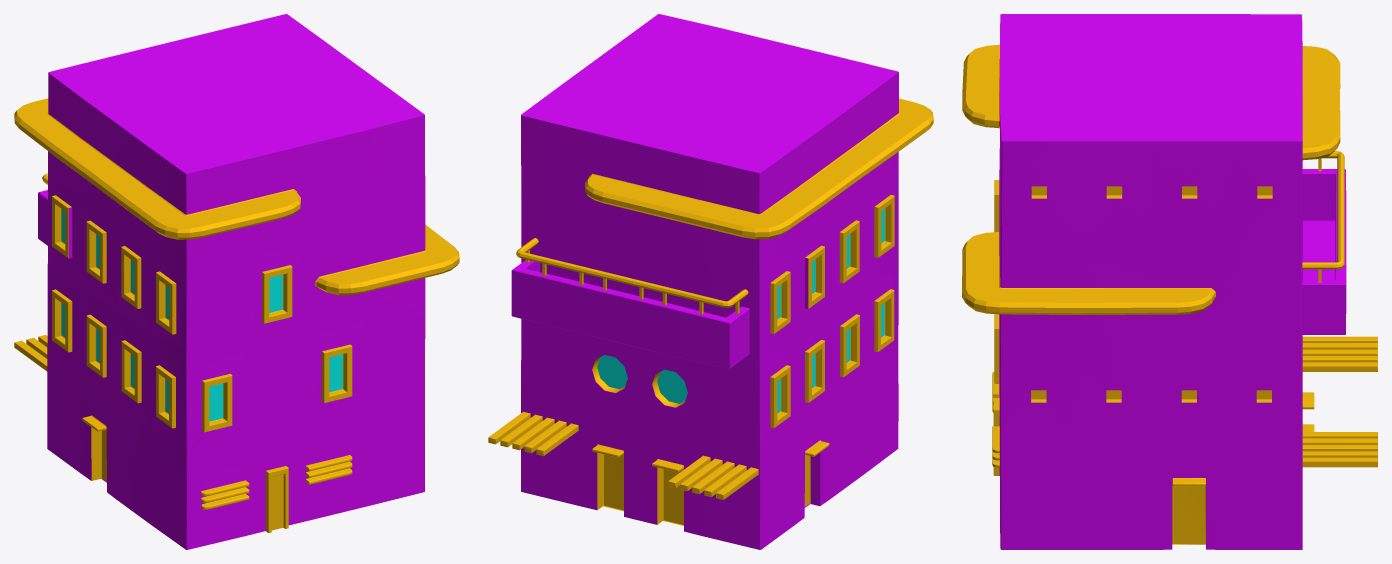
Rendered from B_04_WorldUnitRescale.FBX.
The picture shows the model from 3 angles, left to right: view 1: azimuth 30°, elevation 25°; view 2: azimuth 150°, elevation 25°; view 3: azimuth 270°, elevation 25°; orthographic projection. The views are drawn at different scales.
Parts seen in each view (by area): view 1: Corniche_01; view 2: Corniche_01; view 3: Corniche_01.
Boxes of the visible parts, <box> form: Corniche_01: <box>14,14,459,549</box>; Corniche_01: <box>488,14,933,549</box>; Corniche_01: <box>962,14,1377,549</box>.
Size of the model in its own units: 10.03 by 11.06 by 12.
